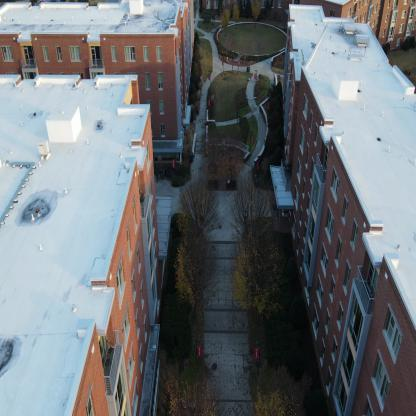Wolf Ridge: (0, 0, 196, 415), (284, 8, 416, 416)
